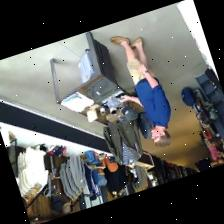person: (110, 36, 170, 146), (197, 130, 217, 167), (203, 134, 223, 165)
